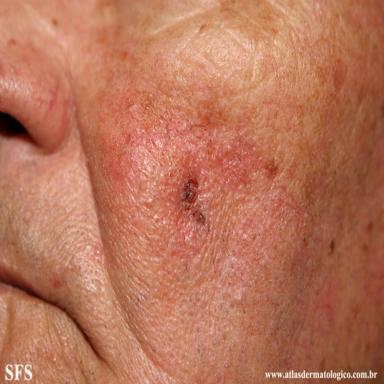basal-cell-carcinoma: (174, 173, 205, 225)
